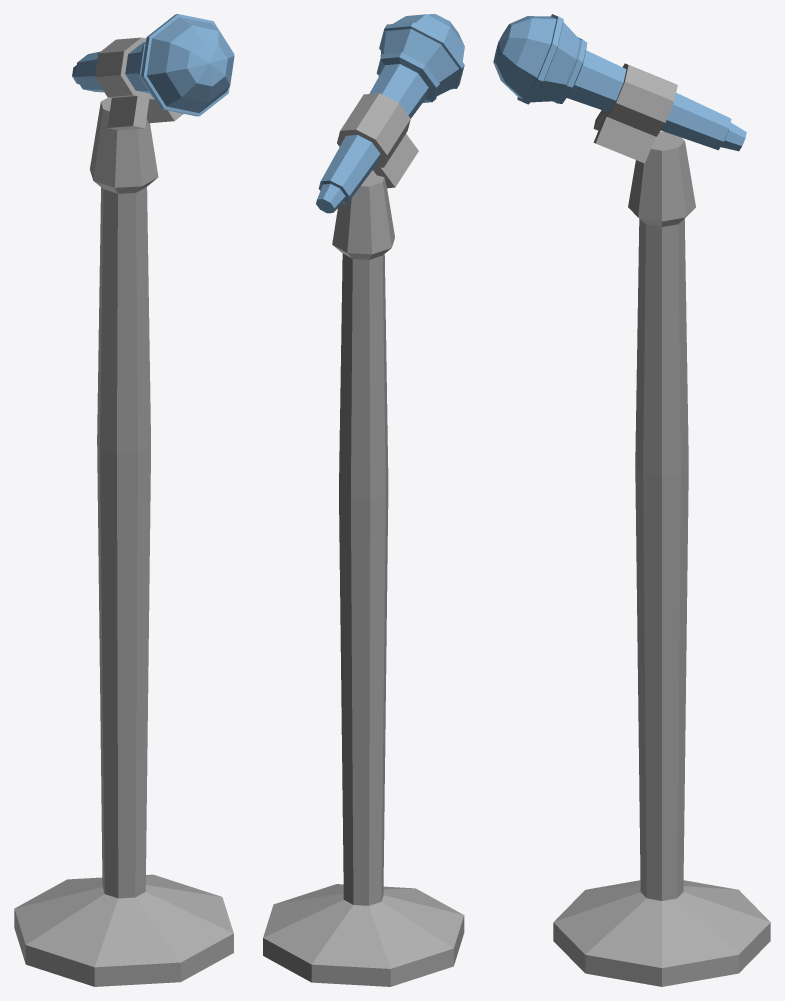
Rendered from MicBig.fbx.
The picture shows the model from 3 angles, left to right: view 1: azimuth 30°, elevation 25°; view 2: azimuth 150°, elevation 25°; view 3: azimuth 270°, elevation 25°; orthographic projection. The views are drawn at different scales.
Visible parts, largest first — view 1: MicBig; view 2: MicBig; view 3: MicBig.
Part boxes in pixels (box(x1,y1,x2,y2)): MicBig: box(14, 14, 234, 986); MicBig: box(263, 14, 464, 986); MicBig: box(493, 14, 770, 986).
Size of the model in its own units: 2.12 by 9.95 by 2.71.
